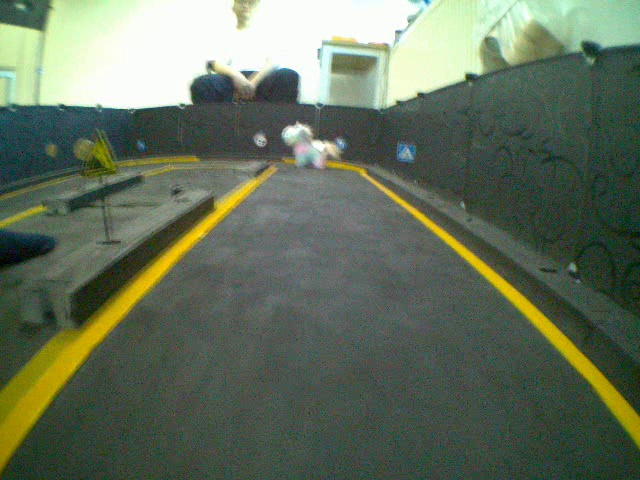unicorn: (283, 119, 346, 170)
